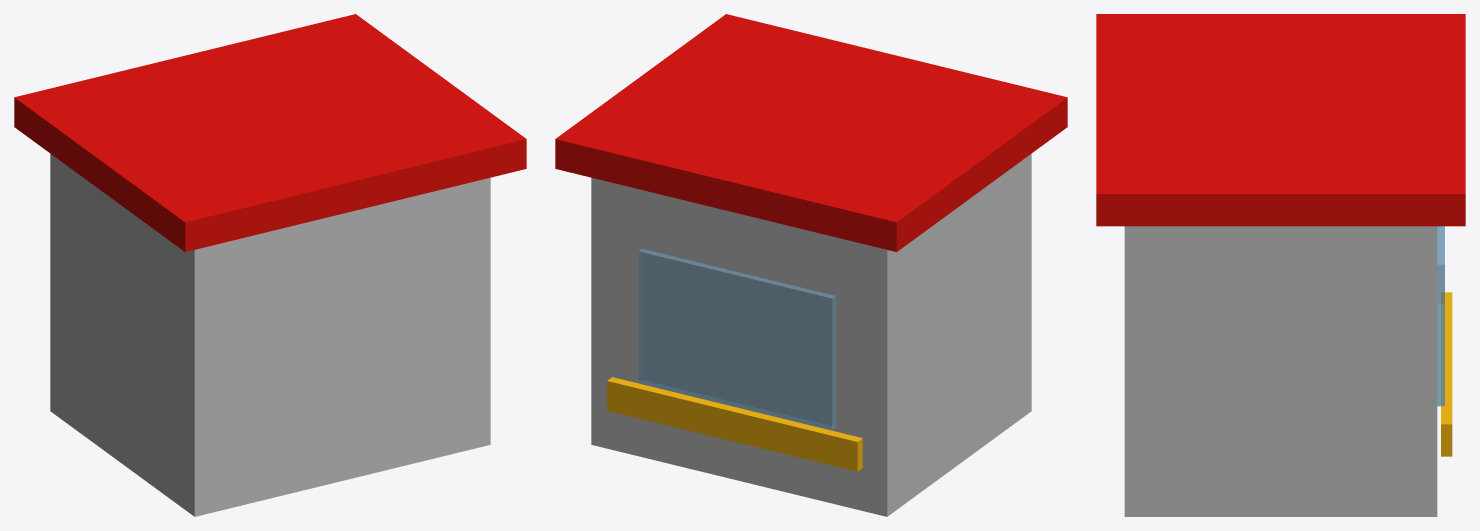
The model's file is newspaper_kiosk.obj.
3 views of the same model, side by side, from view 1: azimuth 30°, elevation 25°; view 2: azimuth 150°, elevation 25°; view 3: azimuth 270°, elevation 25° (orthographic). The views are drawn at different scales.
Visible parts, largest first — view 1: newspaper_kiosk; view 2: newspaper_kiosk; view 3: newspaper_kiosk.
Part boxes in pixels (x1,y1,x2,y2): newspaper_kiosk: (14,14,526,516); newspaper_kiosk: (555,14,1067,516); newspaper_kiosk: (1096,14,1465,516).
Bounding box in the file's own units: 6 × 5.2 × 5.2.
